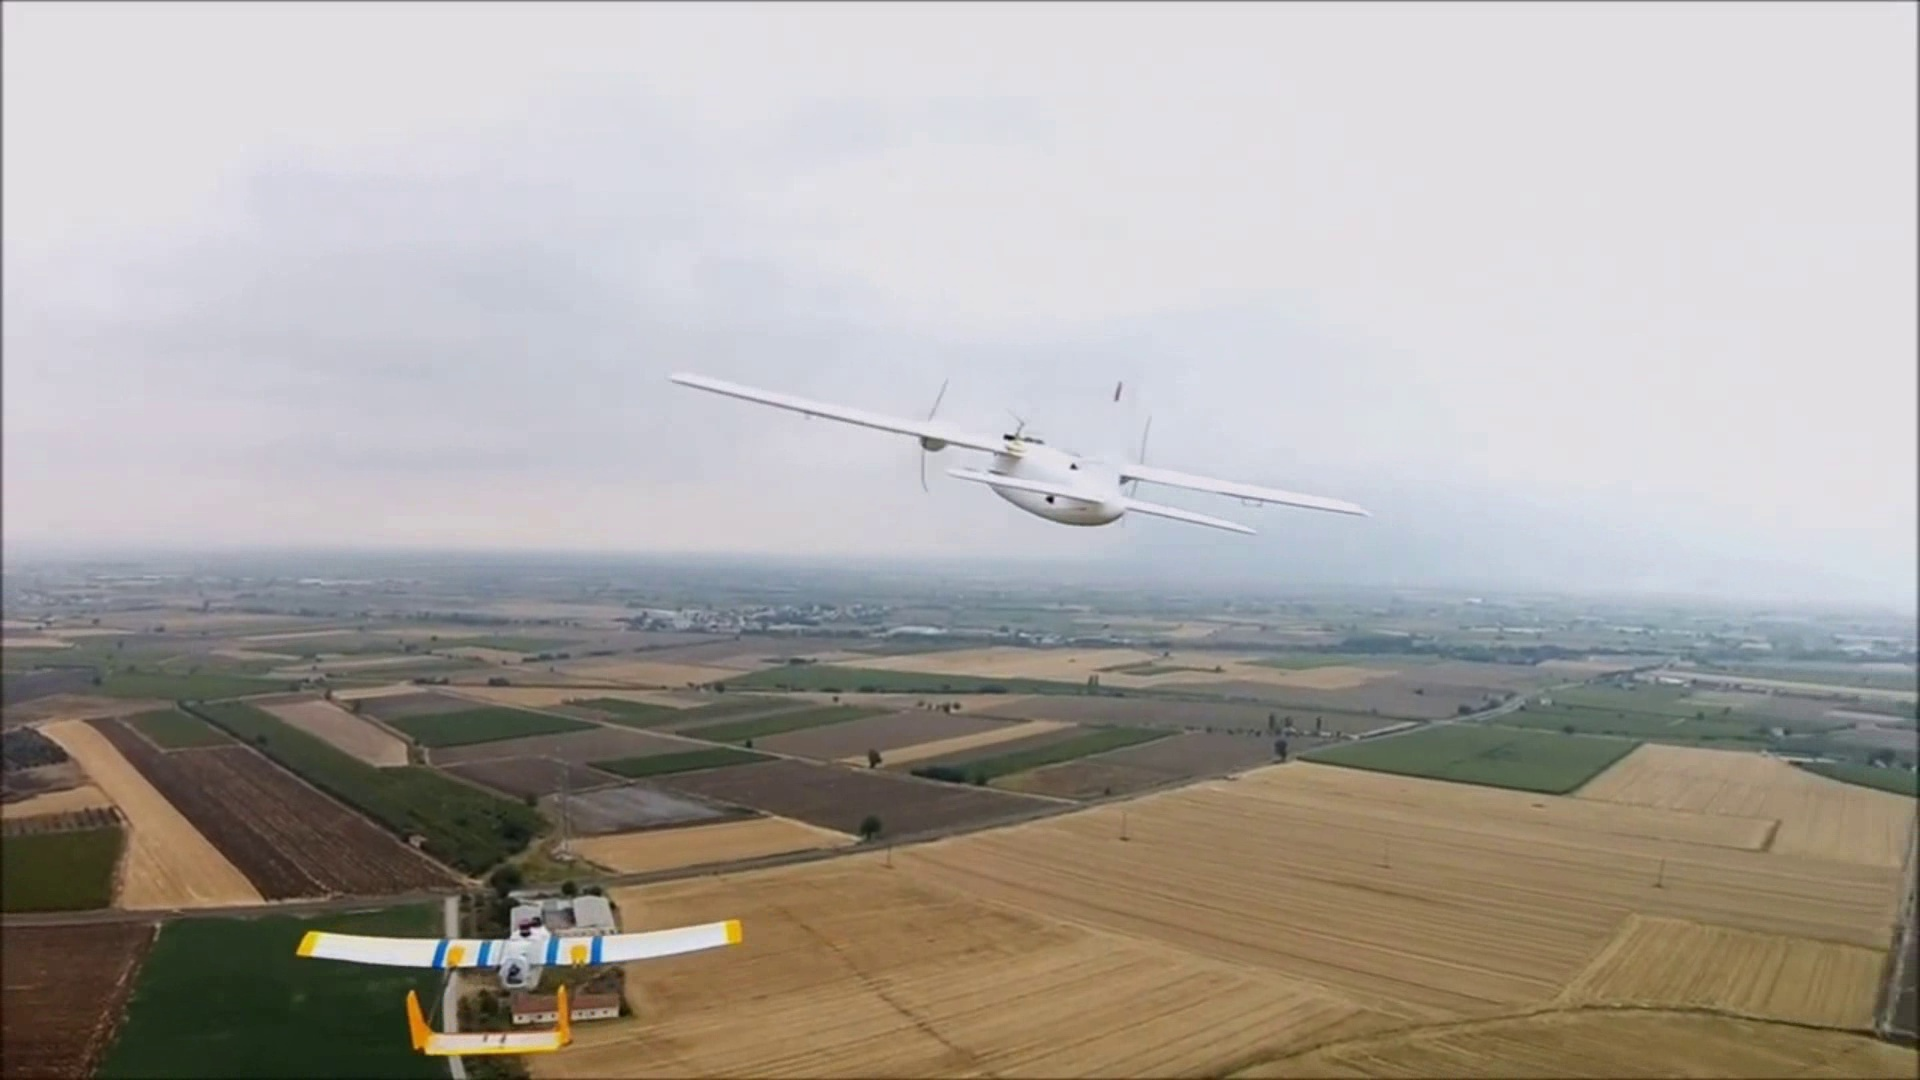airplane: (665, 363, 1371, 534)
